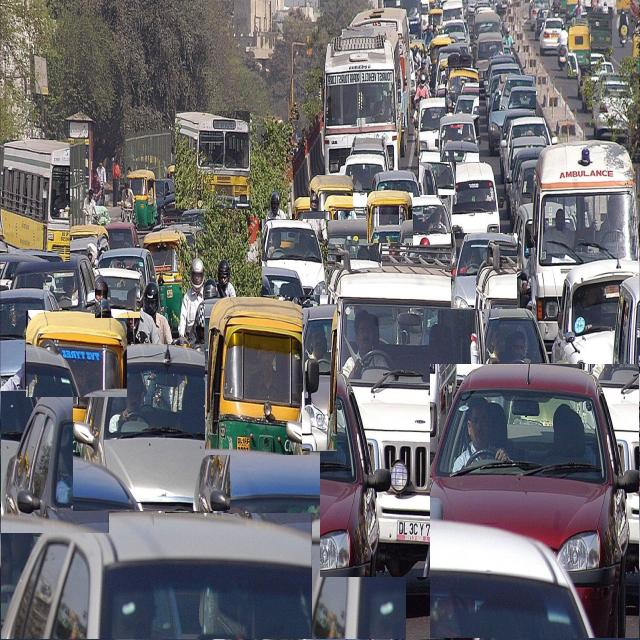autorickshaw: (205, 297, 310, 455), (26, 311, 126, 397), (142, 229, 188, 337), (367, 191, 412, 243), (126, 169, 158, 229), (292, 196, 338, 231), (310, 175, 352, 211), (568, 26, 591, 76)
bus: (322, 22, 408, 173), (0, 140, 70, 262), (175, 111, 250, 209)
car: (320, 246, 499, 577), (430, 365, 639, 638), (165, 451, 405, 640), (1, 514, 311, 640), (73, 345, 229, 511), (0, 391, 109, 533), (551, 260, 632, 386), (0, 289, 60, 386), (14, 253, 100, 312), (302, 305, 336, 451), (262, 220, 328, 295), (451, 233, 516, 309), (444, 162, 500, 232), (340, 153, 386, 218), (504, 116, 551, 179), (323, 220, 381, 270), (488, 87, 529, 156), (509, 147, 542, 217), (416, 98, 452, 160), (95, 269, 140, 318), (98, 249, 156, 284), (412, 198, 452, 247), (505, 136, 548, 179), (474, 31, 504, 90), (419, 151, 456, 195), (445, 69, 479, 116), (436, 113, 479, 149), (510, 200, 532, 268), (371, 171, 420, 198), (499, 75, 535, 110), (350, 138, 390, 168), (515, 160, 536, 216), (540, 18, 564, 54), (440, 140, 479, 162)
emergency: (529, 140, 639, 341)
